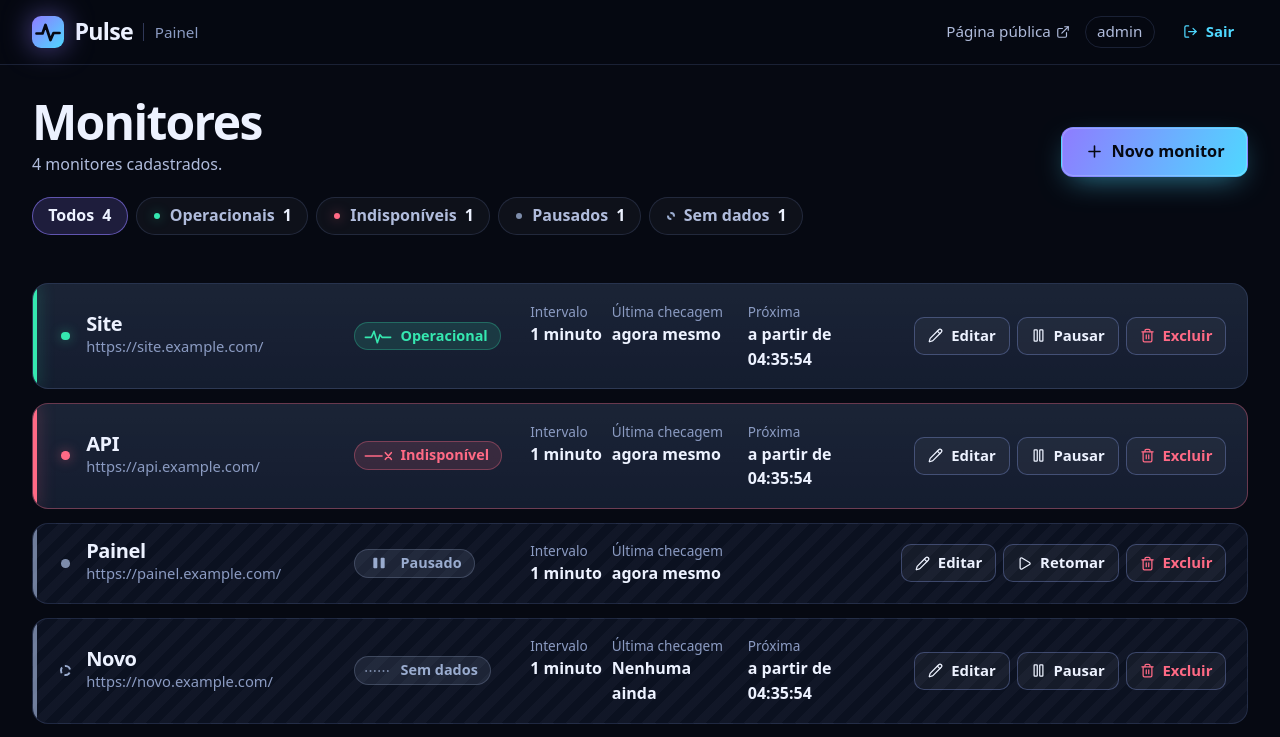
Test: pausar, retomar e excluir › depois de uma operação, falha ao recarregar a lista mantém a leitura anterior com aviso
The width and height of the screenshot is (1280, 737).
Expected: the element "Site" is shown, [32, 283, 1248, 389]
Click the button with aria-label "Pausar Site". click: coordinates (1068, 336)
box: [1017, 317, 1118, 355]
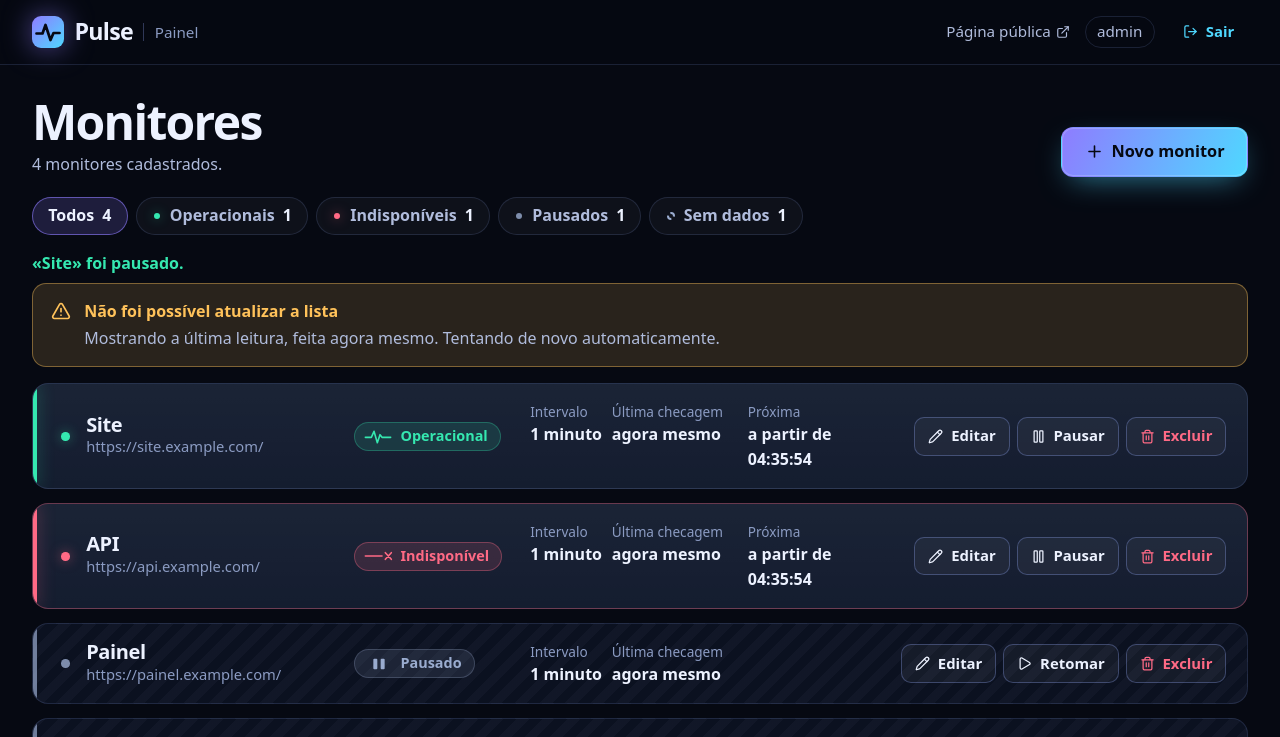
Expected: the element "Site" is shown, [32, 383, 1248, 490]
Result: the text "Não foi possível atualizar a lista" is shown at [84, 300, 338, 322]
